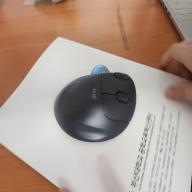mouse: (54, 62, 137, 144)
